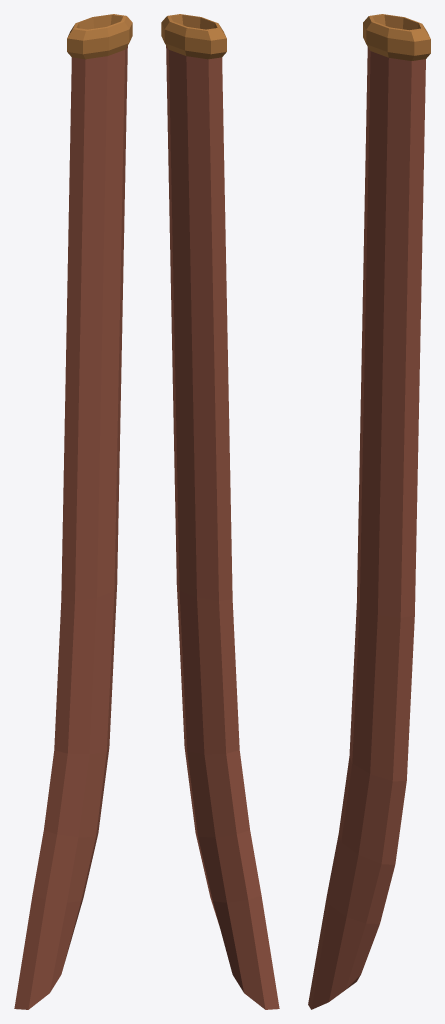
File: SM_pwe_china_sword_scabbard_01.fbx
3 renders of one model, left to right at view 1: azimuth 30°, elevation 25°; view 2: azimuth 150°, elevation 25°; view 3: azimuth 330°, elevation 25°, orthographic. The views are drawn at different scales.
Visible parts, largest first — view 1: SM_pwe_china_sword_scabbard_01; view 2: SM_pwe_china_sword_scabbard_01; view 3: SM_pwe_china_sword_scabbard_01.
Part boxes in pixels (x1=…): SM_pwe_china_sword_scabbard_01: x1=14, y1=14, x2=132, y2=1009; SM_pwe_china_sword_scabbard_01: x1=161, y1=14, x2=279, y2=1009; SM_pwe_china_sword_scabbard_01: x1=308, y1=14, x2=430, y2=1009.
Size of the model in its own units: 8.77 by 68.46 by 2.32.
